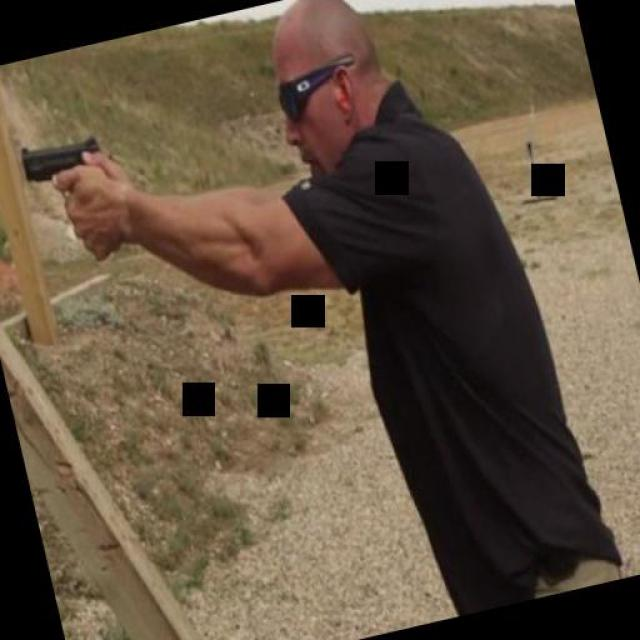gun: (15, 130, 126, 269)
